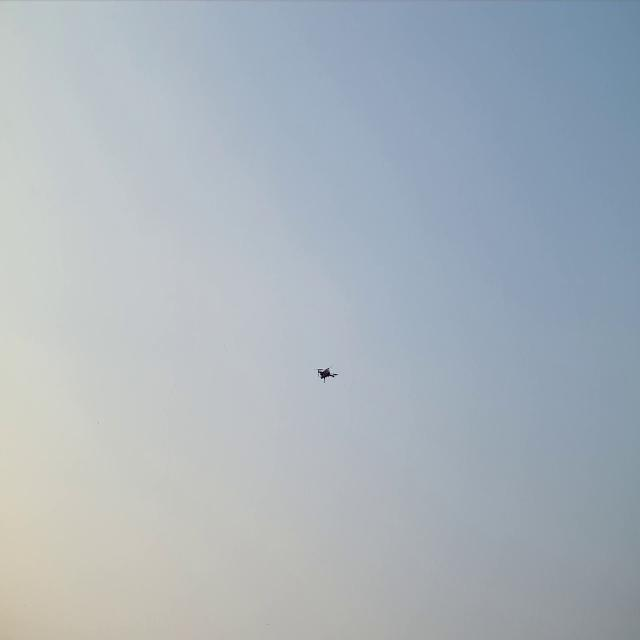UAV: (313, 364, 339, 383)
